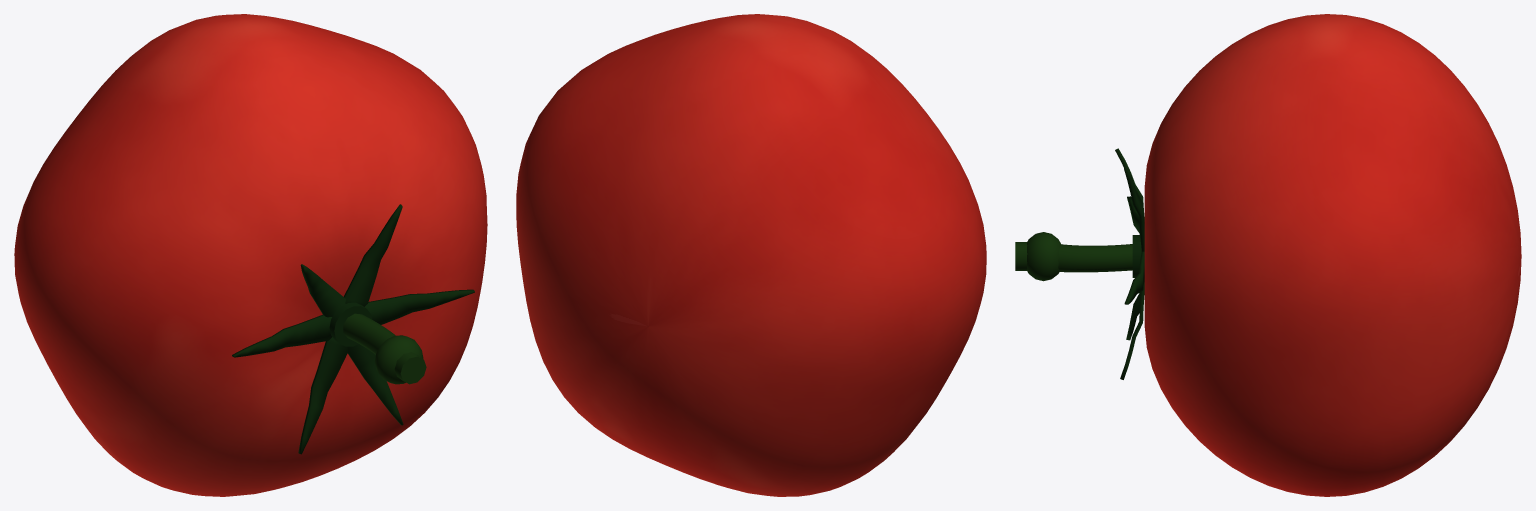
The model's file is tomato_ripe.obj.
3 renders of one model, left to right at view 1: azimuth 30°, elevation 25°; view 2: azimuth 150°, elevation 25°; view 3: azimuth 270°, elevation 25°, orthographic. The views are drawn at different scales.
Visible parts, largest first — view 1: tomato_ripe, calyx, knuckle, pedicel, calyx_hub, proximal_stub; view 2: tomato_ripe; view 3: tomato_ripe, calyx, pedicel, knuckle.
Boxes of the visible parts, box(x1,y1,x2,y2) form: tomato_ripe: box(14, 14, 487, 496); calyx: box(232, 204, 474, 454); knuckle: box(374, 335, 423, 384); pedicel: box(343, 313, 395, 354); calyx_hub: box(329, 302, 371, 346); proximal_stub: box(394, 352, 426, 384); tomato_ripe: box(516, 14, 986, 496); tomato_ripe: box(1144, 14, 1521, 496); calyx: box(1115, 148, 1144, 379); pedicel: box(1058, 244, 1132, 272); knuckle: box(1027, 232, 1061, 281).
Bounding box in the file's own units: 0.0624 × 0.0624 × 0.0656.
3 materials, 1 textured.
